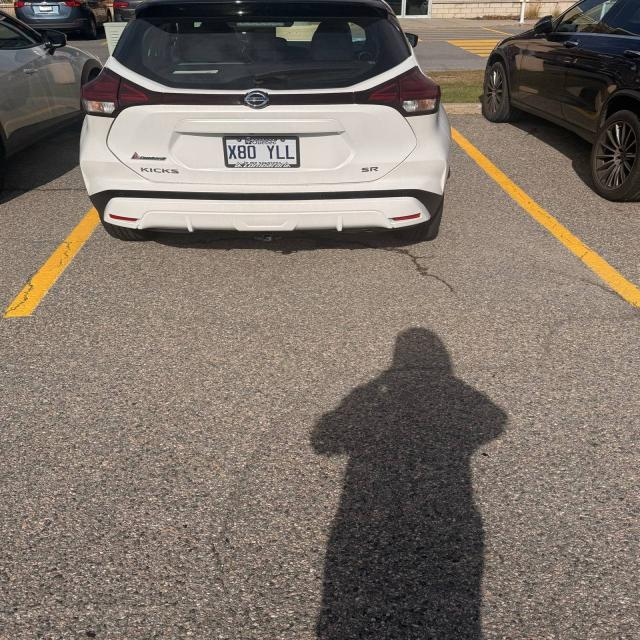plaque: (224, 136, 299, 168), (38, 6, 53, 12)
